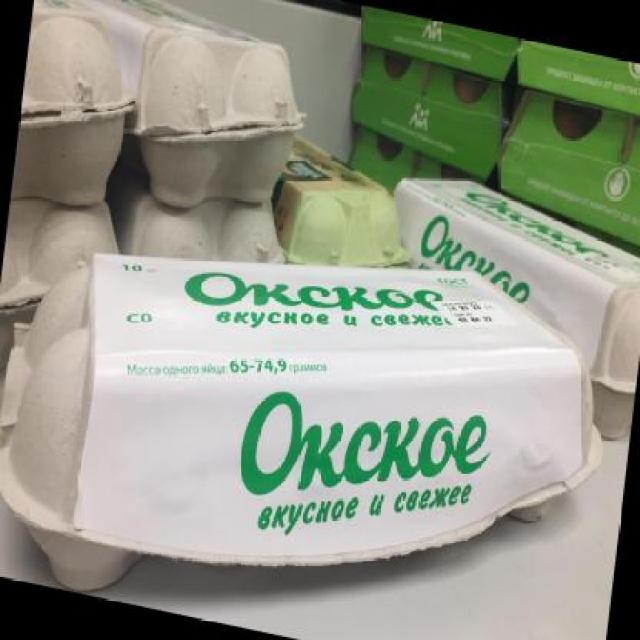Egg: (0, 171, 626, 640), (121, 5, 312, 228)
